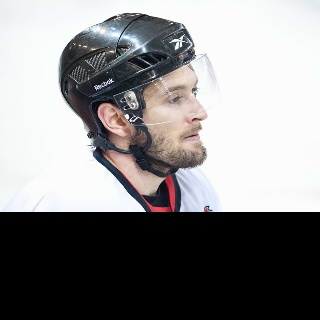without_mask: (126, 62, 207, 169)
